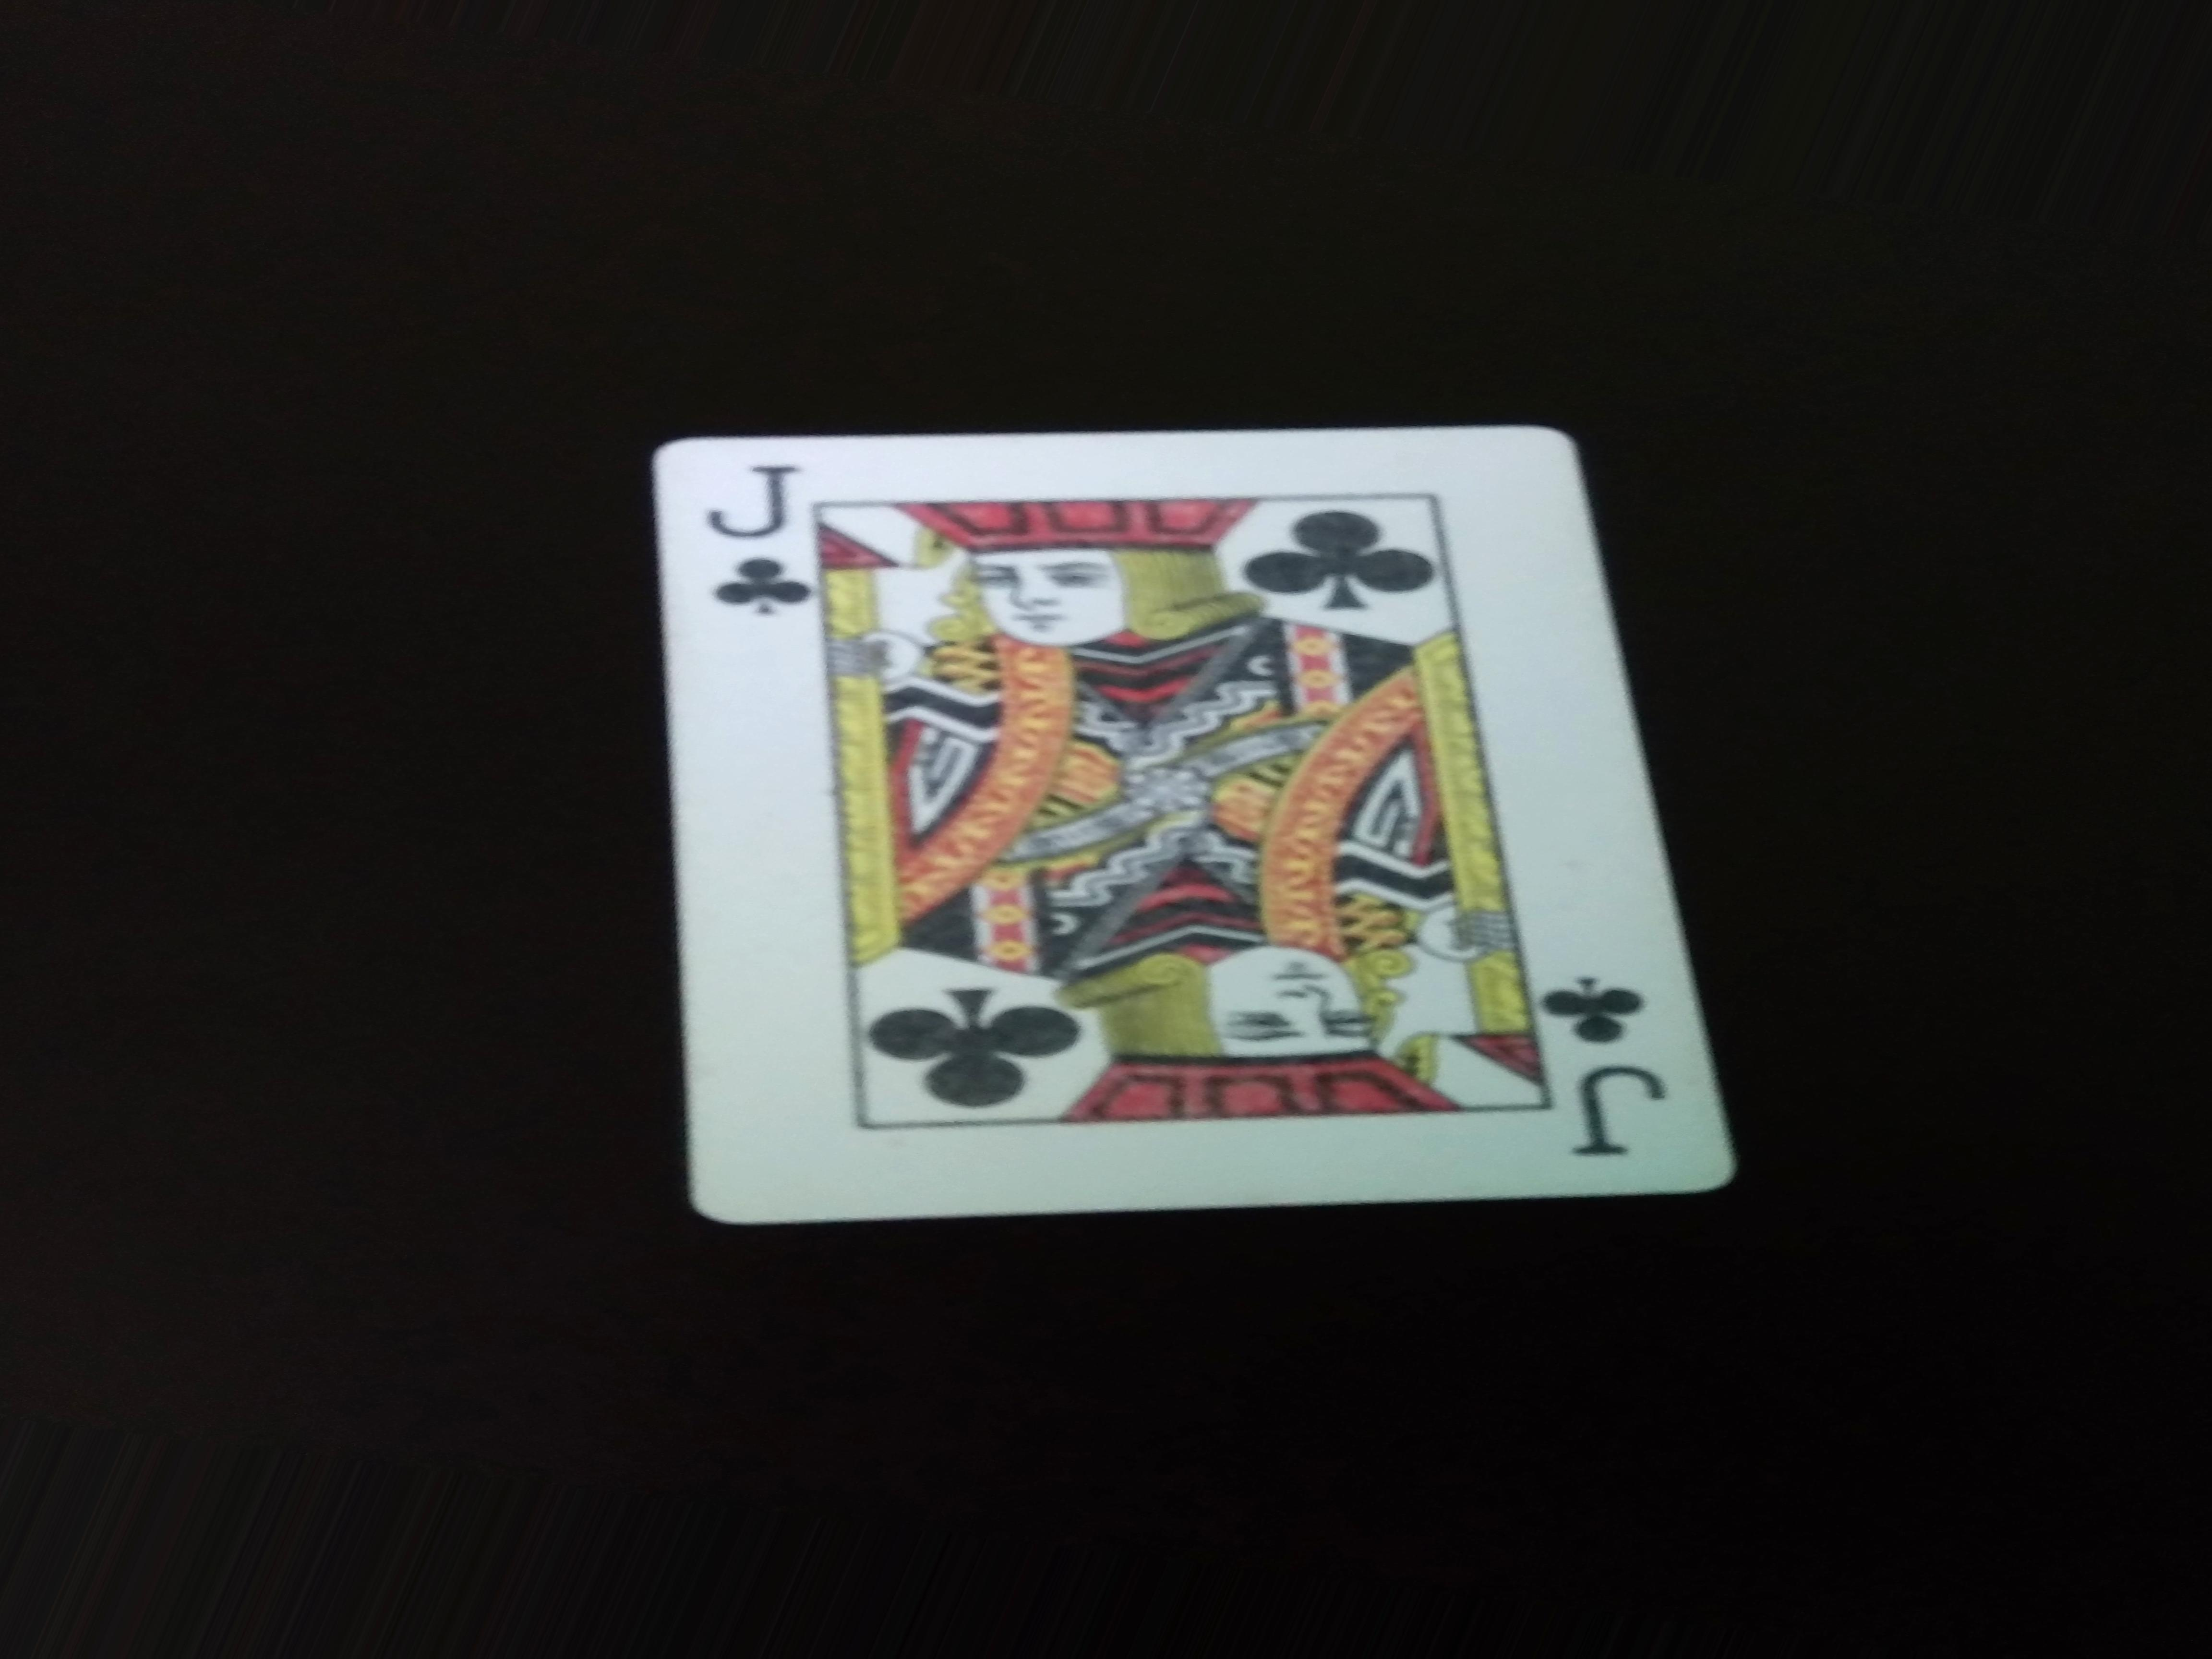JC: (716, 446, 819, 640)
